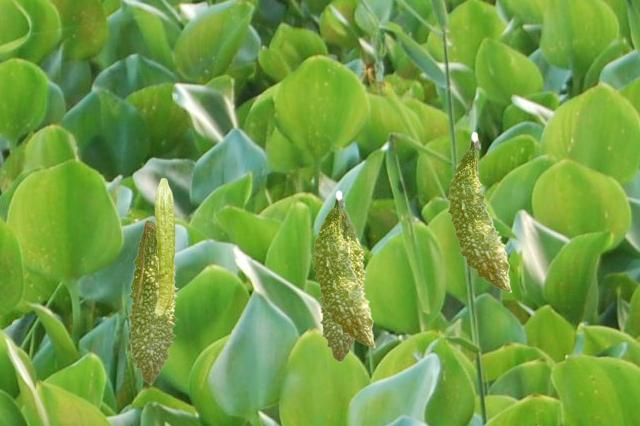ampalaya: (446, 131, 512, 293), (311, 190, 375, 348), (126, 219, 179, 385), (318, 208, 367, 363), (154, 177, 175, 316)
